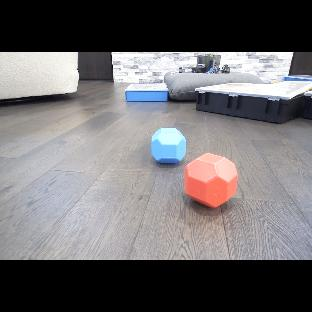V5_BLUE: (151, 127, 187, 165)
V5_RED: (184, 152, 238, 209)
